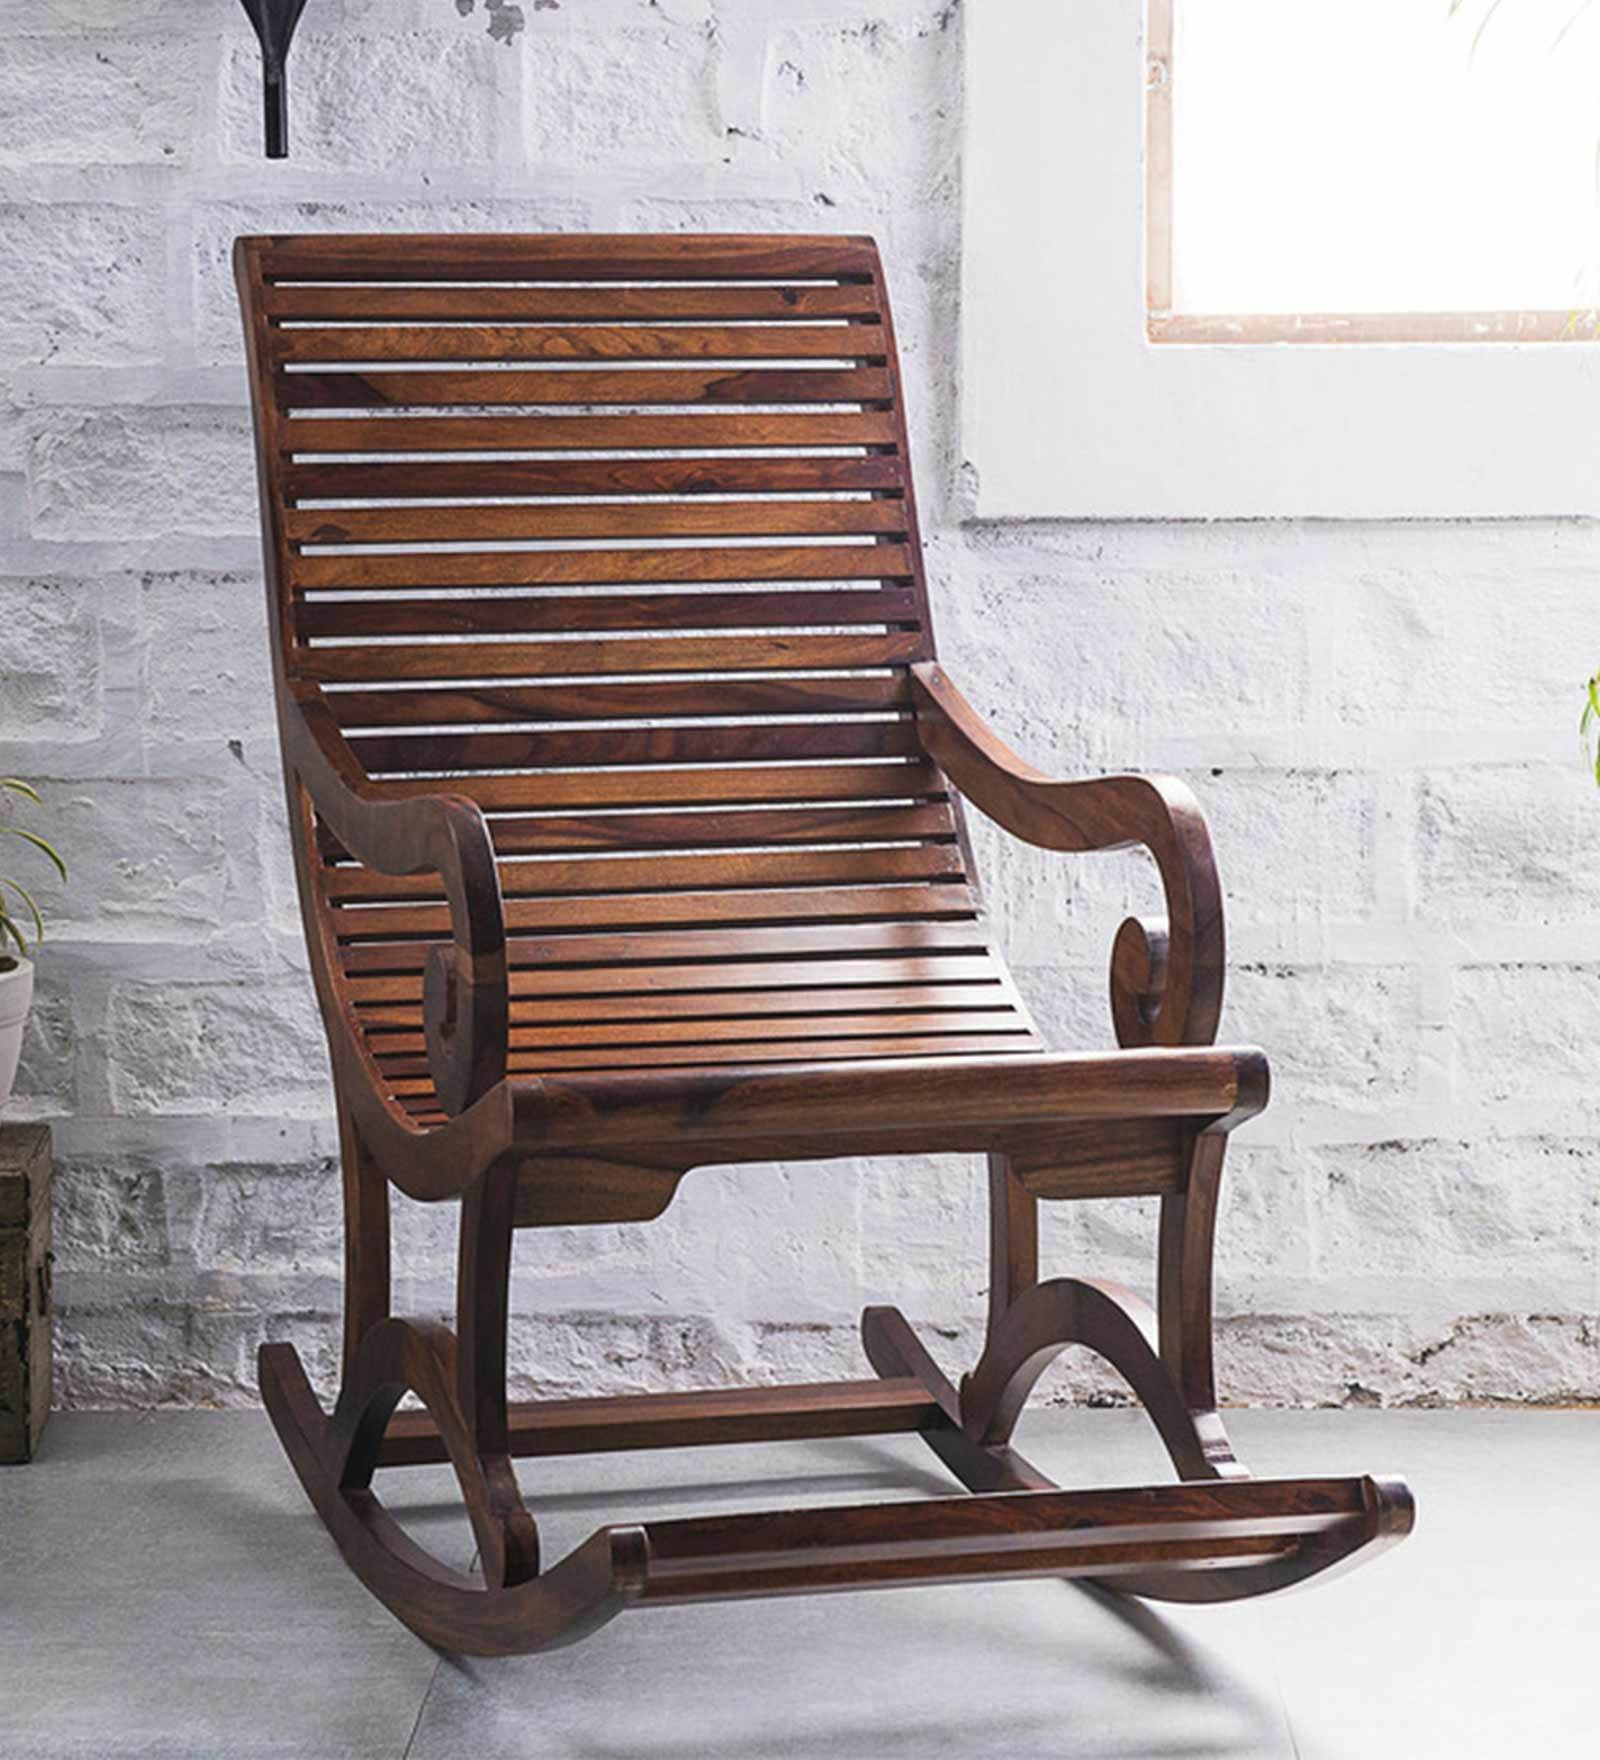Wellesley Rocking Chair in Provincial Teak Finish by Amberville: (143, 130, 1464, 1679)
